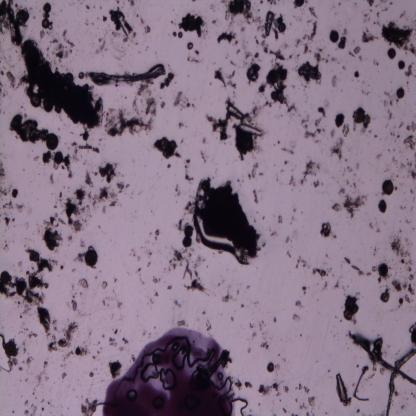Air bubble: (195, 218, 248, 264), (0, 333, 11, 373), (230, 397, 247, 416)
Background material: (18, 39, 105, 130), (349, 331, 416, 385), (0, 0, 30, 49), (23, 247, 54, 289), (9, 113, 49, 143), (104, 107, 144, 136), (231, 124, 260, 162), (380, 20, 414, 51), (267, 59, 288, 106), (108, 8, 132, 42), (178, 12, 205, 38), (224, 0, 252, 25), (186, 180, 206, 214), (153, 136, 181, 160), (342, 194, 369, 218), (296, 61, 322, 85), (343, 290, 361, 324), (42, 226, 63, 255), (353, 365, 369, 401), (350, 106, 372, 130), (63, 196, 80, 226), (212, 113, 230, 140), (98, 160, 118, 184), (300, 161, 320, 185), (390, 234, 410, 258), (36, 306, 52, 334), (23, 288, 46, 306), (9, 275, 27, 296), (81, 396, 99, 416), (183, 278, 208, 292), (62, 320, 78, 341), (329, 138, 344, 160), (246, 63, 261, 85), (107, 358, 122, 379), (303, 21, 318, 42), (62, 154, 74, 179), (258, 382, 278, 396), (174, 91, 190, 108), (217, 31, 237, 44), (136, 81, 154, 95), (160, 72, 174, 90), (214, 67, 226, 88), (146, 97, 158, 117), (73, 345, 90, 358), (172, 248, 184, 266), (74, 188, 86, 206), (144, 116, 155, 135), (269, 49, 286, 61), (362, 31, 379, 43), (6, 70, 16, 90), (320, 221, 332, 237), (404, 134, 416, 150), (409, 321, 416, 348), (239, 113, 254, 125), (72, 219, 84, 234), (16, 74, 27, 90), (266, 69, 277, 85), (334, 112, 345, 128), (85, 169, 94, 188), (305, 131, 318, 144), (253, 17, 264, 32), (182, 259, 190, 279), (57, 338, 73, 348), (99, 186, 109, 202), (96, 39, 106, 55), (132, 96, 140, 115), (377, 199, 387, 214), (404, 62, 414, 77), (78, 129, 90, 141), (74, 252, 86, 264), (390, 280, 402, 292), (35, 369, 46, 382), (308, 6, 318, 20), (273, 13, 283, 27), (42, 150, 52, 164), (252, 105, 262, 119), (312, 268, 329, 276), (0, 283, 9, 298), (62, 350, 73, 362), (43, 216, 55, 227), (47, 341, 58, 353), (406, 120, 416, 133), (222, 292, 233, 303), (0, 185, 11, 196), (288, 176, 298, 188), (108, 336, 118, 348), (2, 200, 14, 210), (317, 106, 327, 118), (0, 160, 6, 180), (57, 43, 64, 60), (280, 146, 294, 154), (343, 122, 350, 138), (251, 162, 258, 178), (338, 36, 346, 50), (257, 320, 267, 331), (249, 298, 260, 308), (15, 202, 26, 212), (332, 202, 343, 212), (79, 278, 89, 289), (313, 51, 322, 63), (116, 181, 125, 193), (200, 148, 207, 163), (408, 44, 416, 57), (30, 403, 38, 416), (70, 299, 78, 312), (226, 70, 236, 80), (287, 103, 296, 114), (226, 80, 237, 89), (408, 284, 416, 296), (408, 269, 416, 281), (73, 148, 79, 164), (272, 28, 280, 40), (331, 75, 338, 88), (92, 194, 99, 207), (234, 379, 243, 389), (258, 84, 268, 93), (184, 173, 194, 182), (177, 218, 183, 233), (244, 50, 254, 59), (308, 397, 316, 408), (46, 333, 57, 341), (374, 151, 383, 160), (337, 188, 346, 197), (301, 115, 310, 124), (173, 299, 182, 308), (343, 398, 352, 407), (298, 402, 308, 410), (144, 25, 152, 35), (22, 304, 30, 314), (26, 357, 34, 367), (294, 38, 302, 48), (314, 117, 322, 127), (260, 342, 270, 350), (48, 258, 58, 266), (175, 183, 181, 196), (39, 29, 46, 40), (4, 216, 11, 227), (12, 188, 19, 199), (109, 191, 118, 199), (371, 360, 377, 372), (294, 300, 303, 308), (205, 114, 214, 122), (106, 106, 115, 114), (361, 88, 370, 96), (66, 40, 75, 48), (206, 319, 212, 331), (187, 41, 194, 51), (176, 320, 186, 327), (50, 38, 60, 45), (117, 300, 124, 310), (254, 188, 258, 205), (404, 293, 410, 304), (402, 279, 408, 290), (188, 268, 193, 281), (79, 144, 92, 149), (296, 255, 301, 268), (303, 42, 308, 55), (264, 100, 272, 108), (292, 314, 300, 322), (312, 180, 320, 188), (348, 50, 356, 58), (405, 259, 413, 267), (282, 385, 290, 393), (379, 367, 386, 376), (127, 0, 136, 7), (109, 200, 118, 207), (101, 281, 108, 290), (266, 0, 276, 6), (12, 356, 18, 366), (323, 279, 328, 291), (278, 215, 284, 225), (28, 333, 38, 339), (330, 126, 335, 138), (411, 169, 416, 181), (302, 258, 308, 268), (301, 286, 307, 296), (286, 249, 292, 259), (384, 90, 391, 98), (92, 147, 100, 154), (366, 0, 374, 7), (354, 46, 361, 54), (42, 360, 49, 368), (245, 381, 252, 389), (341, 28, 348, 36), (63, 50, 70, 58), (58, 218, 66, 225), (121, 337, 129, 344), (334, 280, 340, 289), (304, 386, 310, 395), (202, 137, 208, 146), (80, 239, 86, 248), (274, 362, 280, 371), (178, 121, 184, 130), (8, 360, 13, 370), (398, 298, 403, 308), (376, 411, 386, 416), (129, 249, 136, 256), (152, 290, 159, 297), (371, 265, 378, 272), (192, 261, 199, 268), (84, 19, 90, 27), (383, 100, 389, 108), (398, 121, 404, 129), (50, 173, 54, 185), (400, 10, 406, 18), (372, 58, 378, 66), (160, 101, 166, 109), (111, 31, 119, 37), (113, 54, 121, 60), (400, 403, 406, 411), (324, 99, 330, 107), (260, 39, 266, 47), (9, 291, 17, 297), (184, 165, 189, 174), (367, 374, 376, 379), (405, 238, 410, 247), (197, 254, 202, 263), (407, 168, 411, 179), (61, 372, 67, 379), (93, 170, 99, 177), (80, 206, 86, 213), (248, 322, 254, 329), (358, 269, 364, 276), (400, 162, 406, 169), (271, 232, 278, 238), (316, 128, 322, 135), (354, 71, 360, 78), (48, 22, 53, 30), (381, 7, 389, 12), (392, 156, 397, 164), (247, 346, 252, 354), (264, 45, 269, 53), (225, 96, 230, 104), (191, 58, 199, 63), (102, 206, 107, 214), (252, 331, 257, 339), (105, 297, 115, 301), (330, 57, 338, 62), (53, 162, 58, 170), (87, 191, 92, 199), (17, 260, 22, 268), (68, 235, 73, 243), (388, 112, 393, 120), (298, 383, 303, 391), (240, 26, 246, 32), (82, 159, 88, 165), (52, 319, 58, 325), (52, 326, 58, 332), (406, 218, 412, 224), (373, 247, 377, 256), (44, 376, 50, 382), (376, 227, 382, 233), (63, 30, 66, 42), (384, 288, 390, 294), (152, 278, 158, 284), (119, 346, 125, 352), (209, 4, 214, 11), (102, 15, 107, 22), (285, 236, 290, 243), (400, 205, 407, 210), (235, 289, 240, 296), (272, 316, 277, 323), (358, 55, 363, 62), (261, 241, 266, 248), (86, 204, 91, 211), (414, 152, 416, 169), (389, 99, 393, 107), (102, 298, 106, 306), (173, 262, 177, 270), (290, 412, 298, 416), (370, 222, 374, 230), (194, 269, 198, 277), (156, 228, 160, 236), (140, 277, 144, 285), (242, 61, 248, 66), (0, 70, 5, 76), (24, 400, 29, 406), (5, 244, 10, 250), (400, 258, 405, 264), (72, 268, 78, 273), (25, 410, 30, 416), (254, 52, 259, 58), (230, 61, 236, 66), (366, 271, 372, 276), (44, 283, 50, 288), (14, 134, 19, 140), (89, 372, 94, 378), (407, 266, 412, 272), (167, 285, 173, 290), (172, 31, 177, 37), (194, 49, 199, 55), (291, 84, 296, 90), (54, 222, 59, 228), (53, 212, 58, 218), (34, 156, 40, 161), (236, 49, 241, 55), (410, 188, 414, 195), (140, 17, 144, 24), (71, 142, 78, 146), (247, 173, 251, 180), (60, 264, 64, 271), (284, 42, 288, 49), (26, 221, 29, 230), (368, 129, 373, 134), (308, 49, 313, 54), (24, 327, 29, 332), (186, 159, 191, 164), (53, 204, 58, 209), (87, 213, 92, 218), (10, 64, 15, 69), (146, 262, 151, 267), (18, 330, 23, 335), (395, 391, 399, 397), (132, 32, 136, 38), (376, 12, 380, 18), (150, 298, 154, 304), (412, 394, 416, 400), (114, 329, 118, 335), (389, 132, 395, 136), (276, 393, 282, 397), (291, 215, 295, 221), (95, 341, 101, 345), (140, 98, 144, 104), (378, 276, 381, 284), (304, 124, 308, 130), (293, 207, 297, 213), (9, 183, 13, 189), (186, 56, 190, 62), (182, 249, 188, 253), (348, 166, 352, 172), (86, 4, 90, 10), (101, 332, 105, 338), (356, 162, 359, 170), (288, 54, 292, 60), (46, 46, 50, 52), (88, 246, 94, 250), (346, 180, 350, 186), (376, 22, 380, 28), (365, 27, 369, 33), (389, 0, 393, 6), (36, 227, 40, 233), (380, 0, 387, 3), (353, 182, 356, 189), (52, 155, 55, 162), (59, 191, 62, 198), (250, 57, 254, 62), (216, 282, 220, 287), (284, 160, 288, 165), (307, 19, 312, 23), (306, 411, 310, 416), (18, 366, 22, 371), (168, 267, 172, 272), (332, 4, 336, 9), (318, 47, 322, 52), (221, 0, 226, 4), (99, 5, 103, 10), (154, 236, 158, 241), (114, 278, 118, 283), (394, 186, 398, 191), (396, 134, 400, 139), (374, 134, 378, 139), (241, 303, 245, 308), (22, 341, 26, 346), (262, 34, 266, 39), (276, 140, 280, 145), (2, 93, 6, 98), (356, 408, 360, 413), (188, 253, 192, 258), (283, 408, 287, 413), (69, 48, 73, 53), (54, 45, 58, 50), (296, 53, 300, 58), (2, 65, 6, 70), (249, 408, 253, 413), (191, 103, 195, 108), (202, 310, 206, 315), (21, 360, 25, 365), (0, 81, 3, 87), (206, 29, 209, 35), (138, 267, 141, 273), (23, 347, 26, 353), (410, 161, 413, 167), (167, 164, 171, 168), (23, 70, 27, 74), (344, 159, 348, 163), (324, 254, 328, 258), (26, 271, 30, 275), (17, 301, 21, 305), (202, 258, 206, 262), (352, 173, 356, 177), (356, 364, 360, 368), (259, 172, 263, 176), (337, 61, 341, 65), (4, 212, 8, 216), (322, 57, 326, 61), (255, 40, 259, 44), (126, 184, 130, 188), (116, 0, 120, 4), (96, 350, 100, 354), (338, 2, 342, 6), (47, 401, 51, 405), (342, 66, 346, 70), (36, 384, 40, 388), (80, 313, 84, 317), (410, 242, 414, 246), (390, 308, 394, 312), (295, 398, 298, 403), (363, 14, 368, 17), (136, 13, 139, 18), (275, 176, 278, 181), (235, 40, 238, 45), (280, 169, 285, 172), (231, 317, 234, 322), (247, 285, 250, 290), (262, 215, 265, 220), (334, 234, 337, 239), (328, 368, 331, 373), (327, 53, 330, 58), (387, 108, 390, 113), (368, 16, 371, 21), (394, 138, 397, 143), (0, 88, 2, 95), (170, 259, 172, 266), (93, 5, 96, 9), (192, 0, 196, 3), (212, 21, 216, 24), (92, 355, 95, 359), (148, 232, 152, 235), (258, 402, 261, 406), (396, 99, 399, 103), (396, 174, 399, 178), (12, 410, 15, 414), (59, 198, 62, 202), (22, 168, 25, 172), (352, 382, 355, 386), (41, 399, 44, 403), (24, 114, 27, 118), (399, 229, 402, 233), (22, 322, 25, 326), (325, 59, 328, 63), (373, 21, 376, 25), (364, 18, 366, 24), (375, 4, 378, 8), (395, 270, 397, 276), (12, 239, 15, 243), (277, 353, 280, 357), (74, 291, 77, 295), (25, 378, 28, 382), (89, 330, 91, 336), (254, 219, 257, 223), (209, 83, 212, 87), (300, 333, 303, 337), (386, 168, 390, 171), (12, 218, 15, 222), (279, 398, 282, 402), (98, 142, 101, 146), (283, 358, 286, 362), (312, 412, 315, 416), (32, 392, 35, 396), (412, 227, 415, 231), (304, 85, 308, 88), (31, 266, 34, 270), (273, 412, 276, 416), (410, 392, 413, 396), (294, 69, 298, 72), (98, 138, 102, 141), (259, 0, 263, 3), (29, 6, 32, 10), (407, 162, 410, 166), (150, 251, 152, 256), (233, 91, 235, 96), (99, 38, 101, 43), (146, 46, 148, 51), (2, 325, 4, 330), (182, 138, 184, 143), (0, 110, 2, 115), (42, 407, 44, 412), (138, 257, 140, 262), (62, 165, 64, 170), (168, 64, 170, 69), (406, 81, 409, 84), (15, 50, 18, 53), (20, 315, 23, 318), (170, 21, 173, 24), (3, 247, 6, 250), (72, 295, 75, 298), (8, 55, 11, 58), (33, 16, 36, 19), (4, 240, 7, 243), (329, 267, 332, 270), (63, 186, 66, 189), (95, 276, 98, 279), (122, 174, 125, 177), (411, 20, 414, 23), (305, 0, 308, 3), (405, 51, 408, 54), (136, 42, 138, 46), (61, 364, 63, 368), (355, 2, 357, 6), (15, 300, 17, 304), (24, 244, 26, 248), (80, 292, 82, 296), (389, 266, 391, 270), (269, 229, 271, 233), (35, 396, 37, 400), (340, 319, 342, 323), (0, 214, 2, 218), (347, 284, 349, 288), (20, 106, 24, 108), (107, 304, 109, 308), (346, 333, 348, 337), (4, 56, 6, 60), (316, 359, 318, 363), (158, 278, 160, 282), (255, 35, 257, 39), (392, 149, 396, 151), (67, 407, 69, 410), (388, 149, 390, 152), (377, 70, 379, 73), (52, 51, 54, 54), (60, 9, 62, 12), (362, 80, 364, 83), (40, 9, 42, 12), (301, 211, 303, 214), (242, 180, 245, 182), (58, 116, 61, 118), (159, 97, 162, 99), (292, 16, 295, 18), (310, 410, 312, 413), (414, 19, 416, 22), (414, 75, 416, 78), (391, 258, 394, 260), (19, 380, 22, 382), (125, 96, 127, 99), (91, 23, 94, 25), (96, 17, 98, 20), (0, 56, 2, 59), (67, 385, 69, 388), (256, 212, 259, 214), (237, 179, 239, 182), (337, 181, 339, 184), (47, 32, 49, 35), (100, 347, 102, 350), (399, 220, 401, 223), (68, 186, 70, 189), (99, 226, 102, 228), (325, 413, 328, 415), (386, 123, 388, 126), (164, 268, 166, 271), (414, 33, 416, 35), (55, 201, 57, 203), (384, 170, 386, 172), (13, 225, 15, 227), (407, 158, 409, 160), (86, 221, 88, 223), (390, 81, 392, 83), (17, 306, 19, 308), (291, 221, 292, 225), (73, 388, 75, 390), (414, 28, 416, 30), (350, 185, 352, 187), (155, 51, 157, 53), (3, 112, 5, 114), (77, 309, 79, 311), (54, 382, 56, 384), (258, 9, 260, 11), (396, 20, 398, 22), (386, 285, 388, 287), (334, 13, 336, 15), (5, 228, 6, 232), (370, 9, 372, 11), (413, 35, 414, 38), (207, 265, 208, 268), (391, 274, 392, 276), (414, 69, 415, 71), (415, 38, 416, 40), (141, 247, 142, 249), (414, 197, 415, 199), (0, 61, 1, 63), (52, 362, 54, 363), (407, 19, 408, 20), (386, 126, 387, 127)
Cellulose filter fibre: (386, 349, 416, 416), (88, 63, 165, 87)
Diatom: (238, 123, 263, 137), (335, 373, 347, 402), (228, 104, 244, 119), (265, 11, 274, 36), (45, 133, 58, 150), (381, 180, 394, 195), (85, 249, 97, 265), (377, 262, 389, 276), (30, 93, 42, 107), (5, 342, 16, 356), (182, 236, 193, 248), (184, 225, 194, 237), (329, 30, 339, 42), (0, 272, 10, 284), (266, 361, 275, 373), (388, 47, 396, 60), (396, 88, 405, 99), (43, 3, 52, 13), (41, 18, 50, 28), (55, 152, 63, 163), (279, 23, 287, 33), (293, 0, 304, 6), (399, 60, 405, 70), (382, 294, 389, 302), (344, 257, 351, 264), (351, 265, 359, 271), (78, 71, 84, 79), (178, 32, 183, 38), (90, 265, 97, 269)
Fragment: (202, 182, 261, 251)
Pen: (103, 325, 232, 416)
